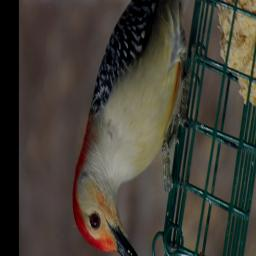Woodpecker: (72, 0, 201, 256)
